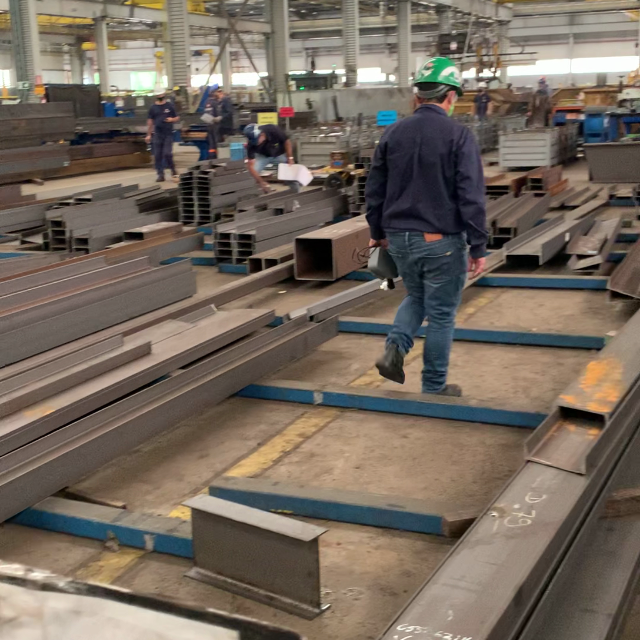helmet: (415, 58, 469, 104)
person: (367, 55, 486, 396)
safety-shoe: (375, 341, 407, 383), (430, 385, 464, 394)
